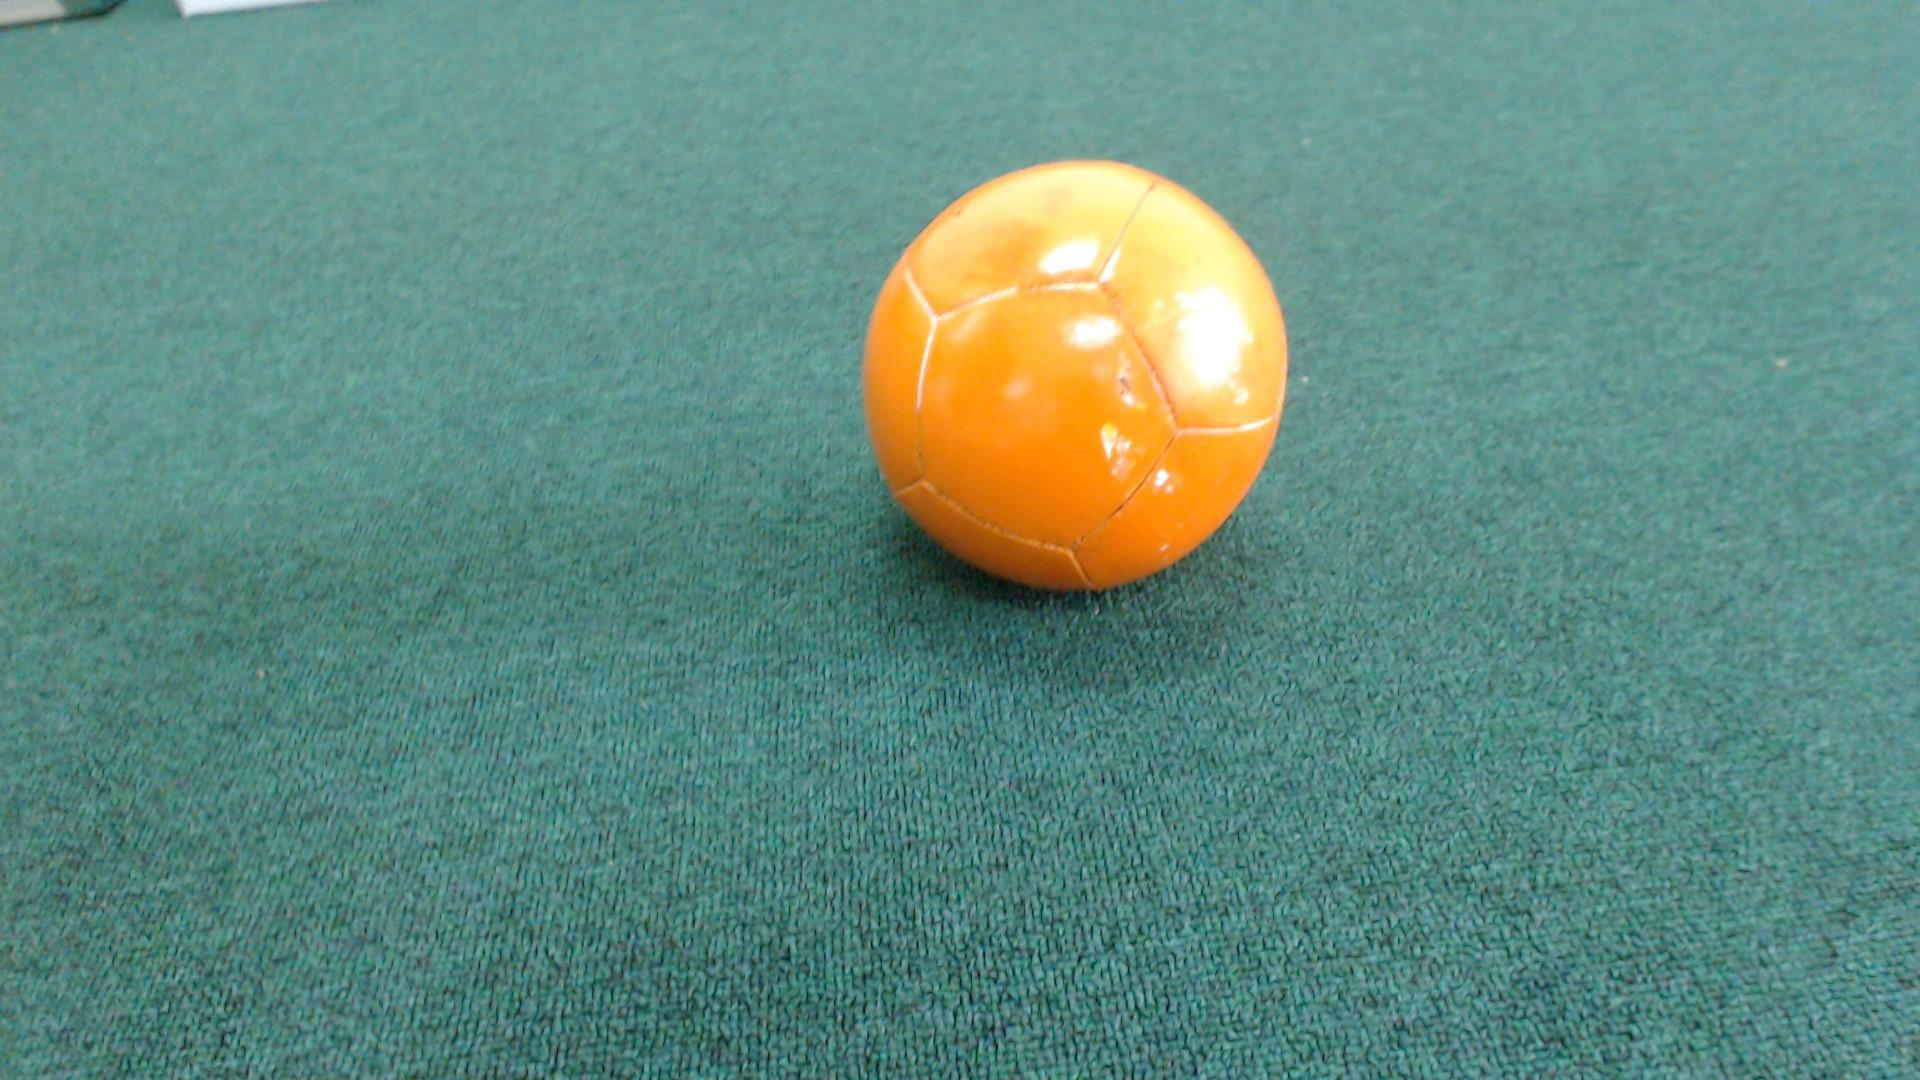bola: (832, 137, 1307, 611)
